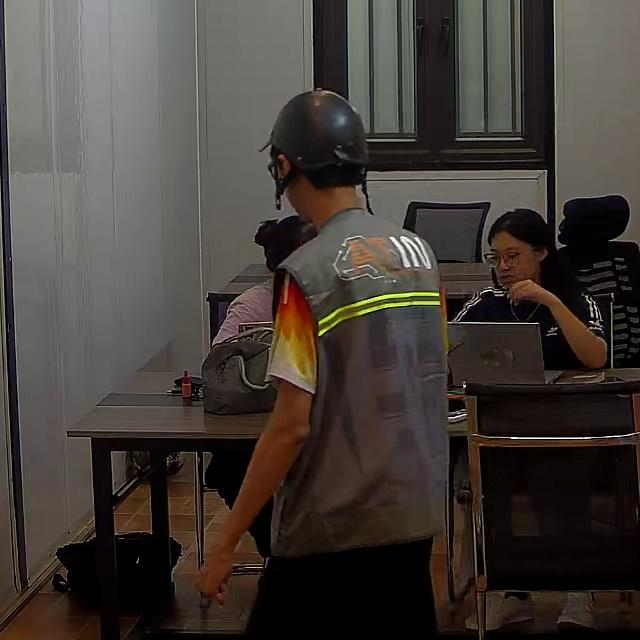helmet: (259, 85, 371, 178)
no_helmet: (488, 207, 565, 270), (253, 212, 313, 268)
none: (453, 268, 608, 366), (213, 278, 277, 339)
vest: (269, 211, 447, 562)
